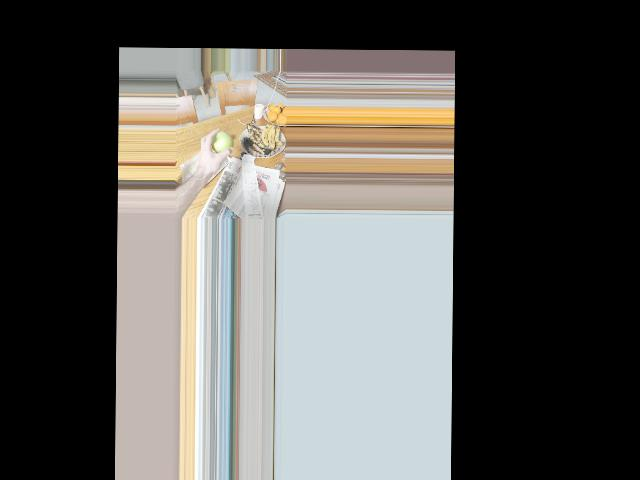apple: (211, 129, 231, 154)
